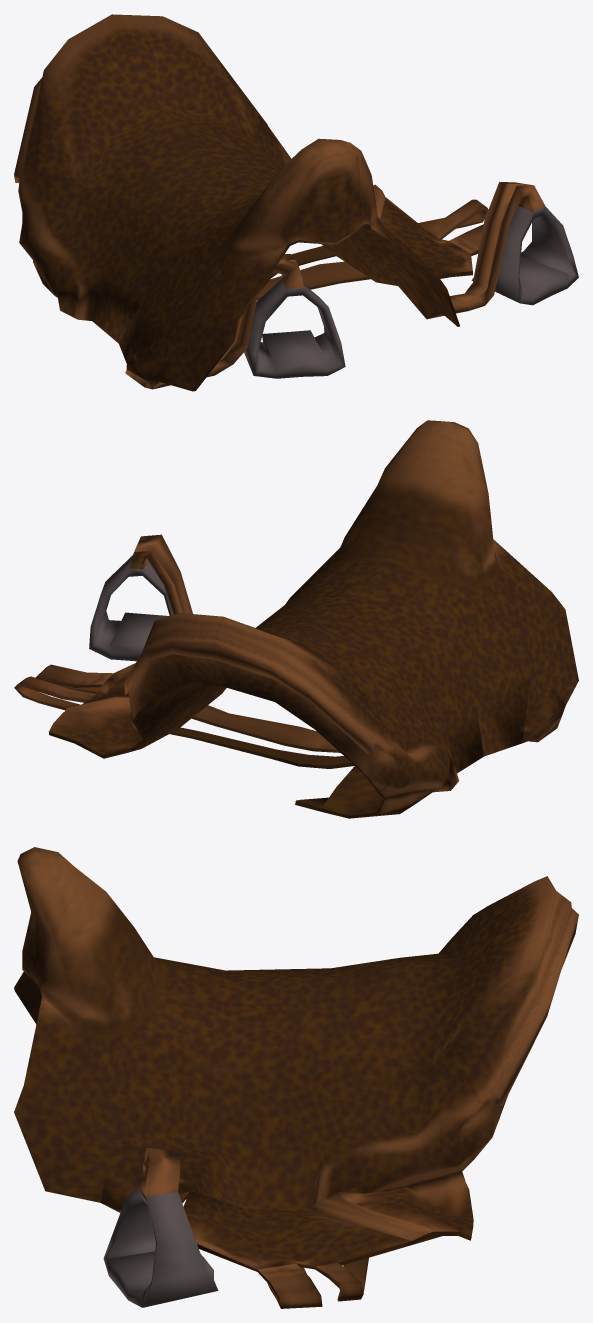
The model's file is HorseSaddle_Ground.fbx.
The picture shows the model from 3 angles, top to bottom: view 1: azimuth 30°, elevation 25°; view 2: azimuth 150°, elevation 25°; view 3: azimuth 270°, elevation 25°; orthographic projection. The views are drawn at different scales.
Visible parts, largest first — view 1: Saddle_Ground; view 2: Saddle_Ground; view 3: Saddle_Ground.
Part boxes in pixels (x1=…): Saddle_Ground: x1=14, y1=14, x2=578, y2=391; Saddle_Ground: x1=14, y1=420, x2=578, y2=818; Saddle_Ground: x1=14, y1=847, x2=578, y2=1308.
Bounding box in the file's own units: 0.00548 × 0.00286 × 0.00511.
